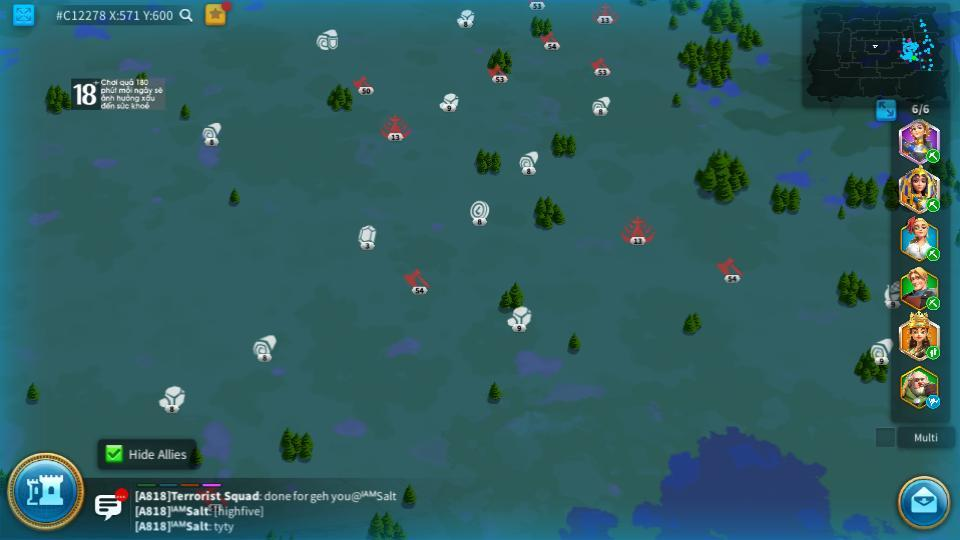gem-z-out: (357, 225, 375, 248)
march_farming: (925, 197, 941, 212), (925, 149, 941, 162), (924, 248, 939, 260)
march_idle: (925, 396, 942, 408)
march_marching: (925, 297, 942, 310), (925, 347, 941, 359)
